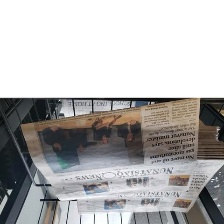news_paper: (16, 96, 201, 194), (74, 123, 223, 217)
